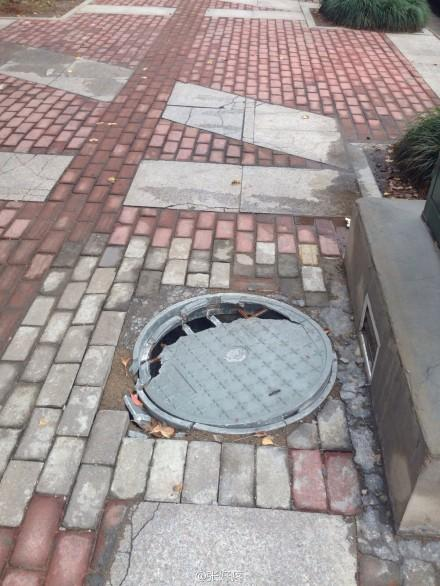wellcover: (114, 286, 349, 455)
